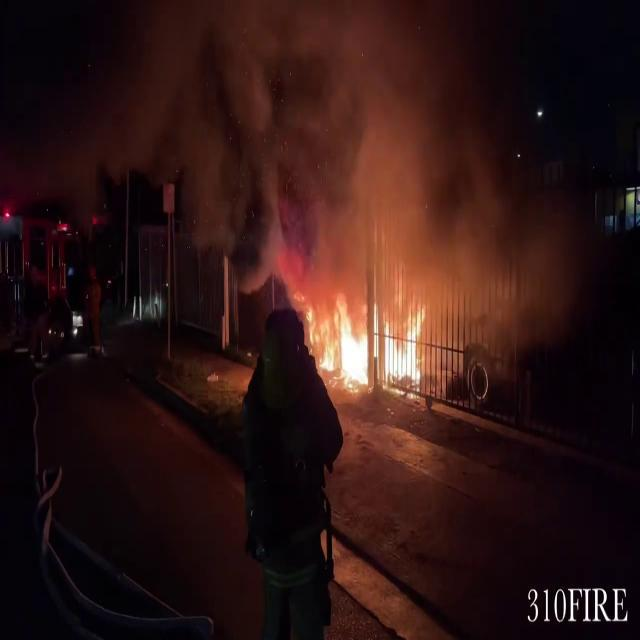Fire: (304, 284, 434, 392)
Smoke: (175, 0, 567, 322)
